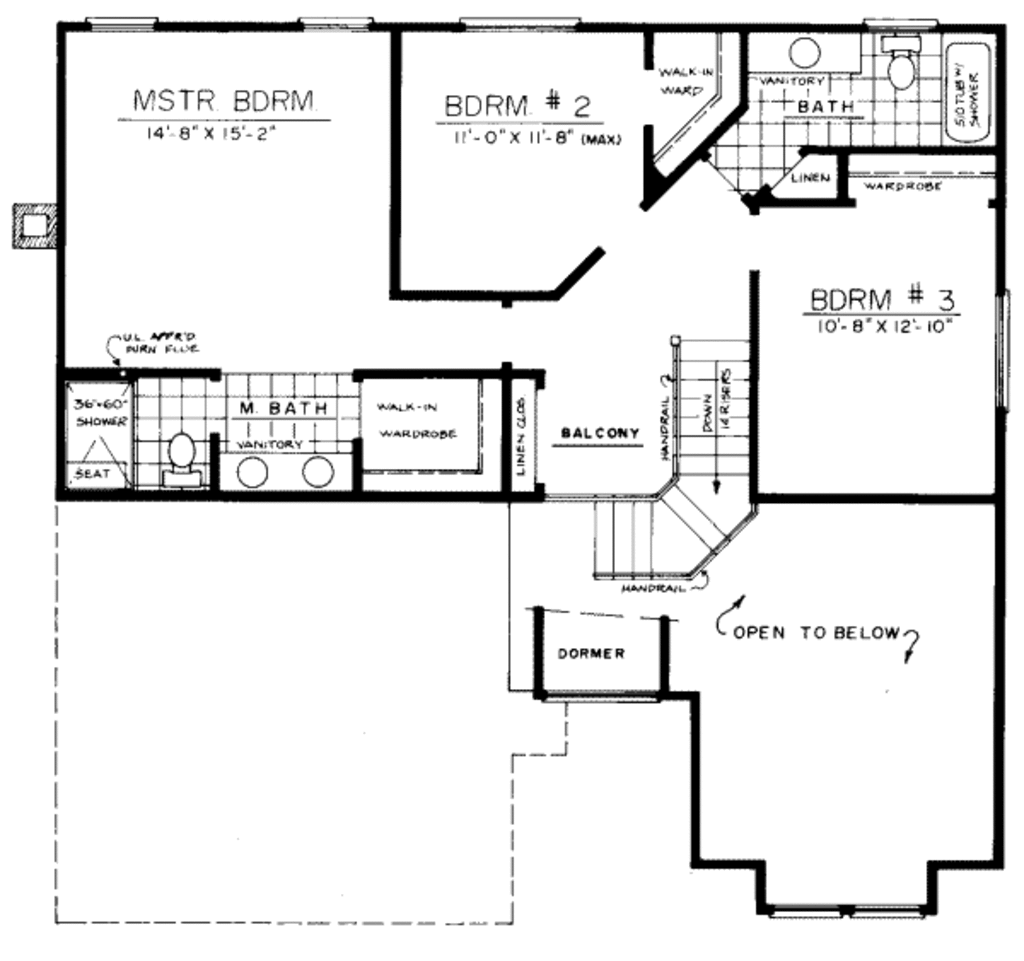large_sink: (867, 25, 933, 103), (143, 430, 213, 493)
small_sink: (221, 449, 351, 500), (748, 22, 866, 75)
stairs: (585, 321, 760, 578)
tub: (943, 27, 998, 149)
window: (773, 901, 928, 922), (994, 293, 1016, 407), (79, 10, 158, 37), (454, 12, 581, 25), (298, 15, 373, 36)
